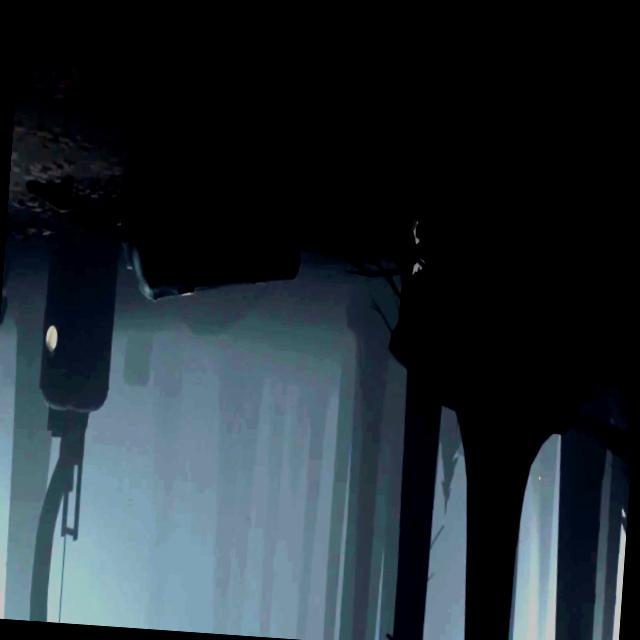boy: (408, 212, 435, 288)
human: (0, 244, 13, 340)
